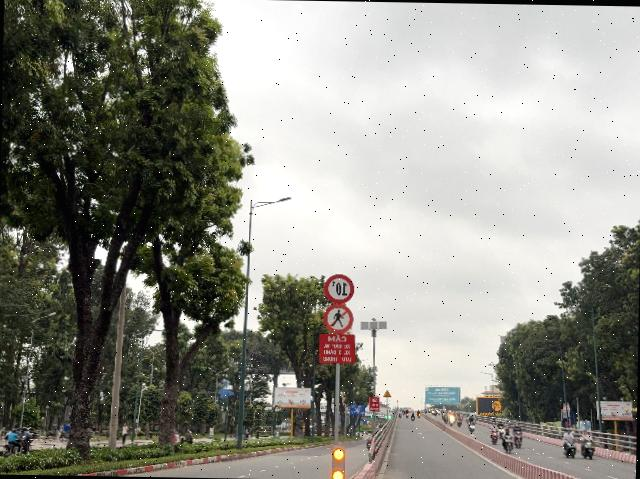cam-nguoi-di-bo: (322, 303, 353, 334)
han-che-trong-luong-xe: (324, 274, 355, 303)
